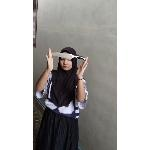Pisau: (52, 50, 88, 64)
